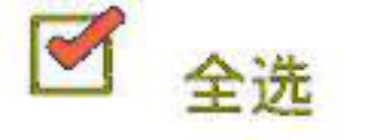CheckBox: (1, 1, 370, 139)
